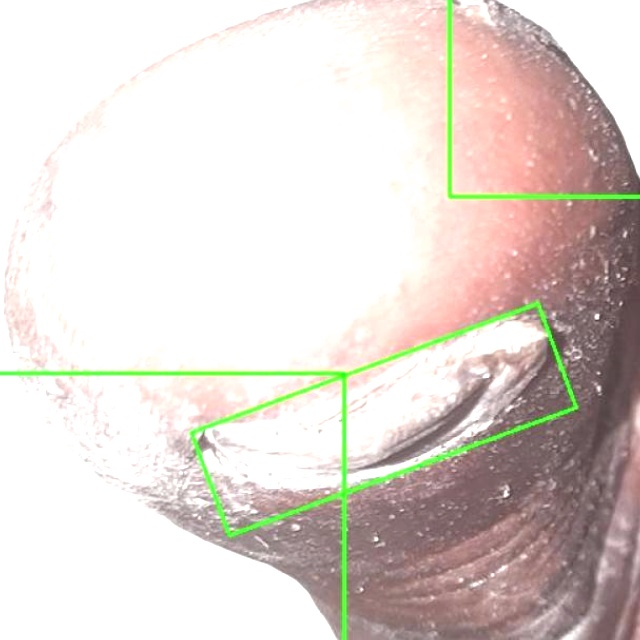Contact Dermatitis: (0, 373, 344, 639), (191, 303, 576, 534), (449, 0, 639, 196)
